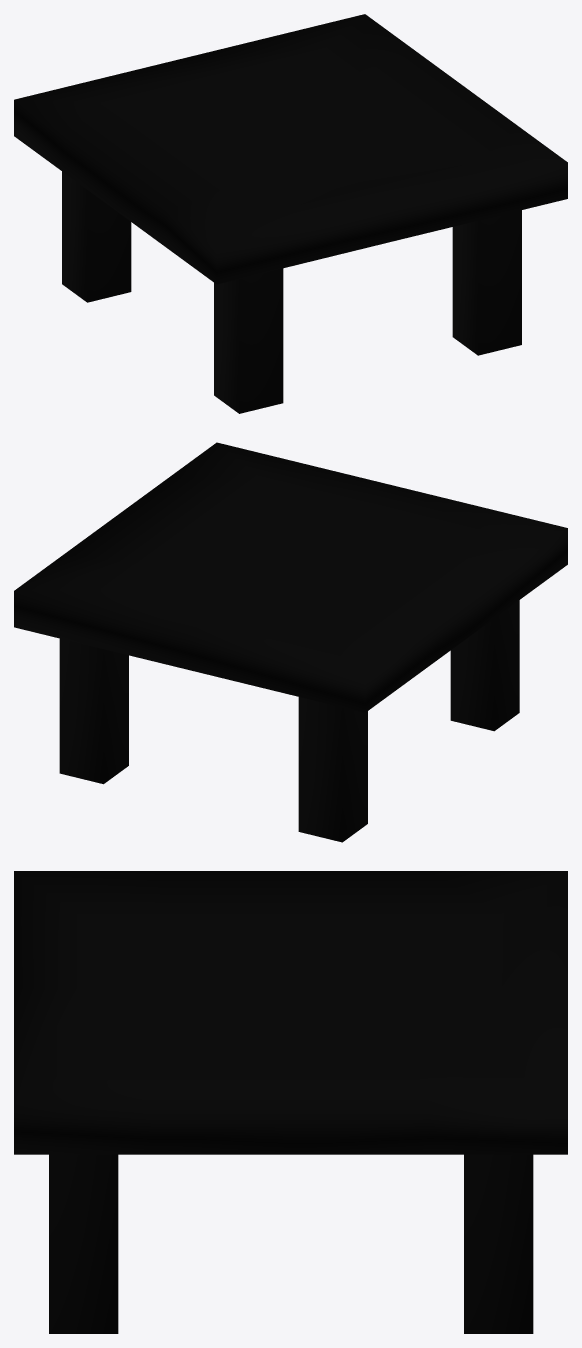
3 renders of one model, top to bottom at view 1: azimuth 30°, elevation 25°; view 2: azimuth 150°, elevation 25°; view 3: azimuth 270°, elevation 25°, orthographic. The views are drawn at different scales.
Visible parts, largest first — view 1: T1L1M004_1; view 2: T1L1M004_1; view 3: T1L1M004_1.
Part boxes in pixels (x1=…): T1L1M004_1: x1=14, y1=14, x2=567, y2=413; T1L1M004_1: x1=14, y1=442, x2=567, y2=842; T1L1M004_1: x1=14, y1=871, x2=567, y2=1333.
Size of the model in its own units: 2 by 1 by 2.
